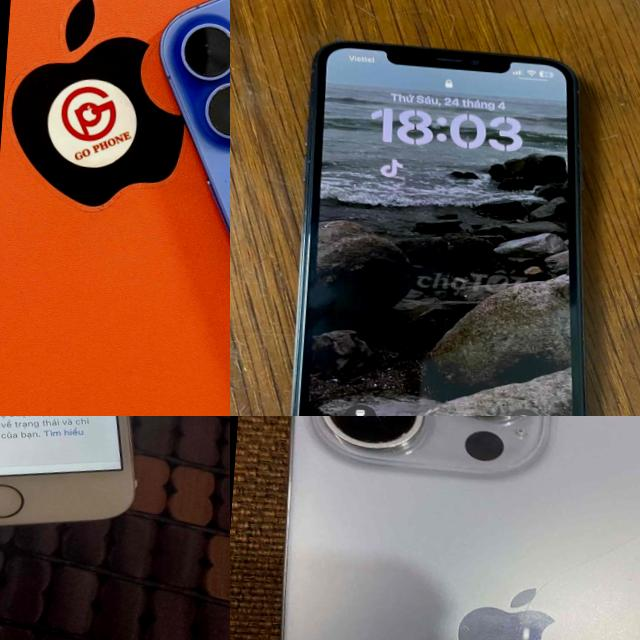gen_11: (269, 34, 614, 416)
gen_16: (234, 416, 640, 640), (109, 0, 230, 416)
gen_7_8: (0, 416, 171, 549)
physical_damage: (395, 531, 563, 640), (558, 484, 640, 576)
